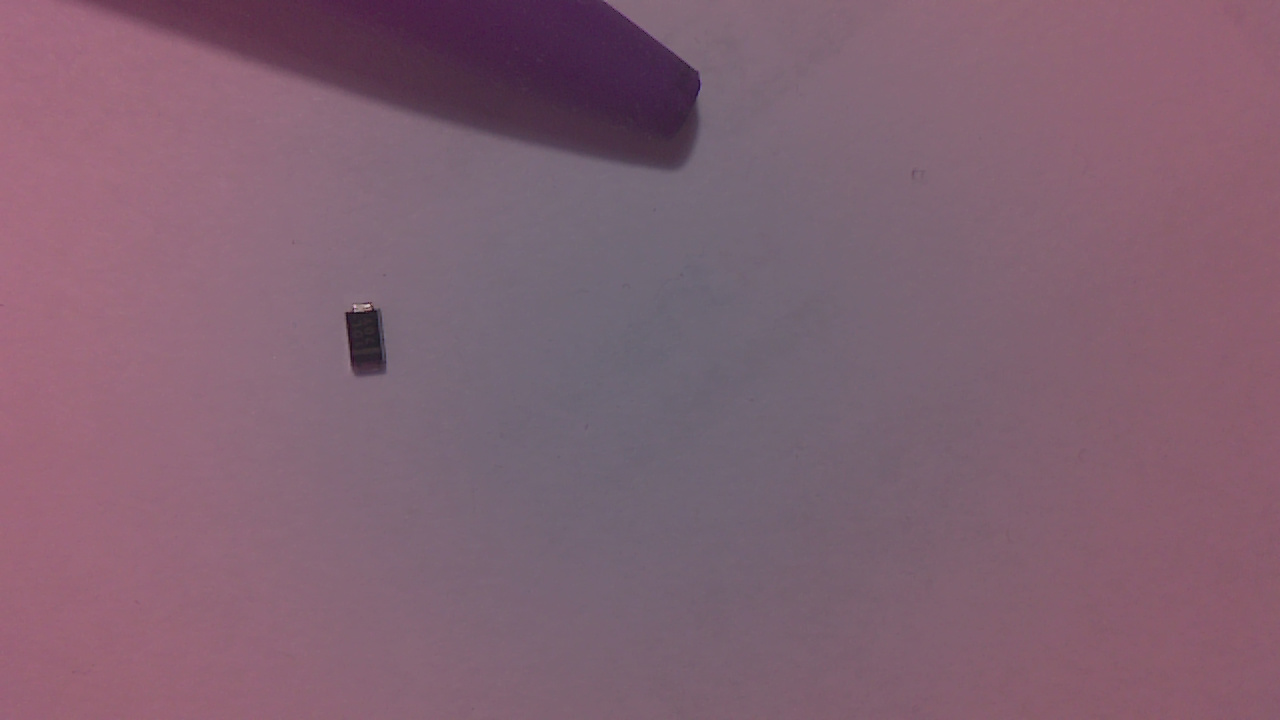Diode: (348, 298, 393, 383)
